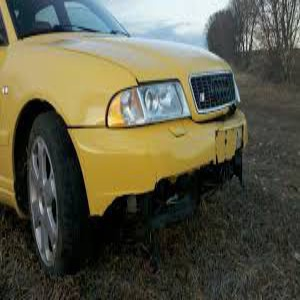bumper: (92, 141, 251, 228)
